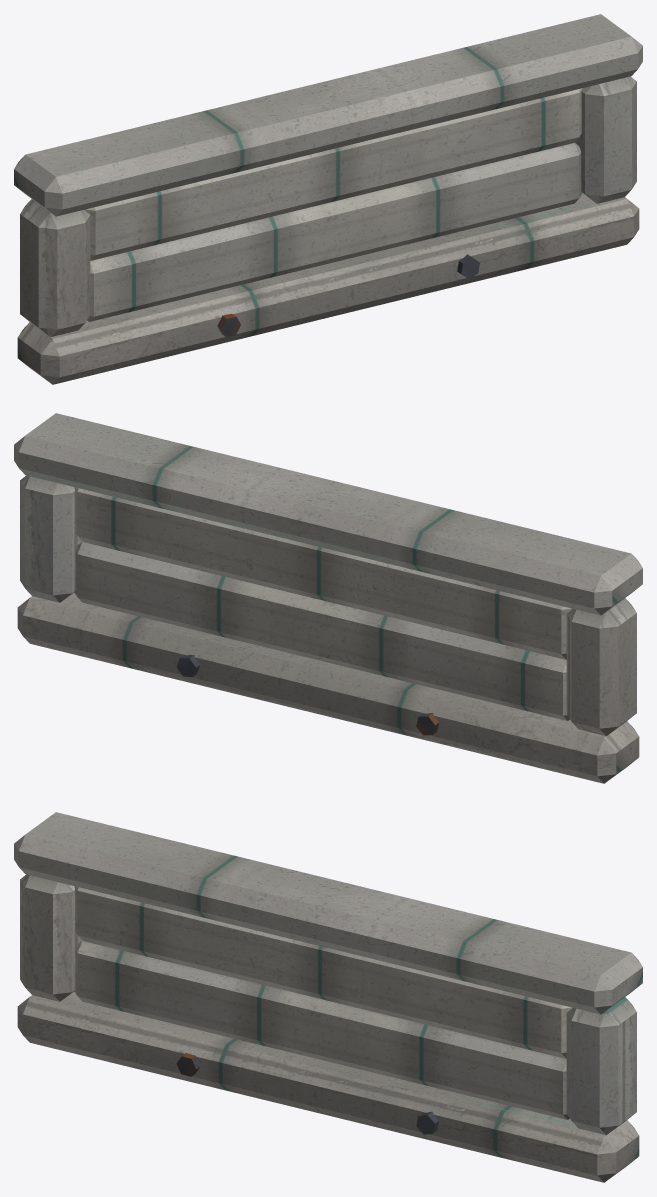
File: alcak_duvar.glb
3 views of the same model, one above another, from view 1: azimuth 30°, elevation 25°; view 2: azimuth 150°, elevation 25°; view 3: azimuth 330°, elevation 25° (orthographic).
Visible parts, largest first — view 1: alcak_duvar; view 2: alcak_duvar; view 3: alcak_duvar.
Boxes of the visible parts, left/top/right/bottom form: alcak_duvar: left=14, top=14, right=642, bottom=384; alcak_duvar: left=14, top=413, right=642, bottom=783; alcak_duvar: left=14, top=812, right=642, bottom=1182.
Size of the model in its own units: 3 by 1.01 by 0.39.
1 material, 1 textured.
